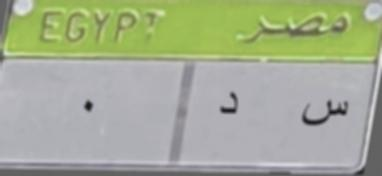0: (70, 92, 110, 121)
daal: (213, 82, 246, 124)
seen: (291, 83, 356, 136)
